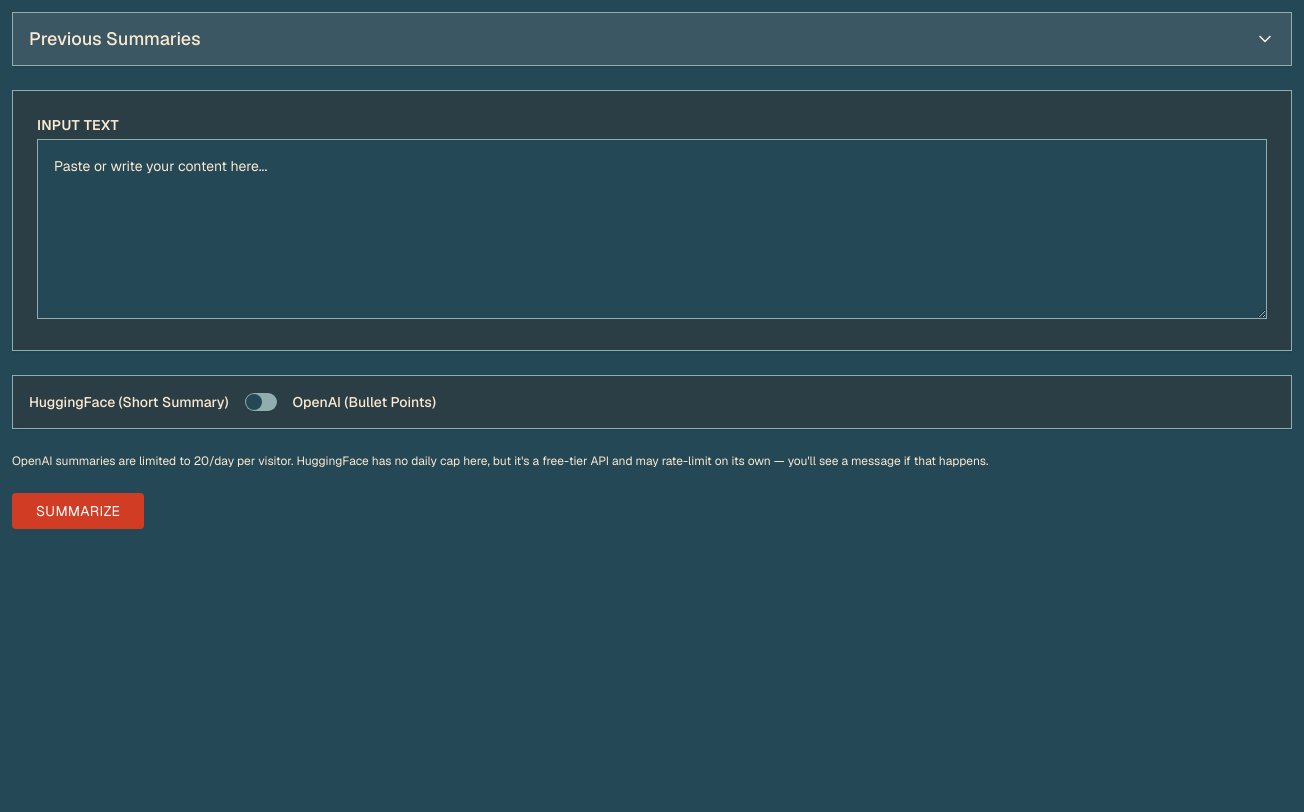
it: SummaryTabs › shows the summary on success
Step 1. Type "some article text" into the text box with placeholder "Paste or write your content here..." → x=652, y=229, box [37,139,1267,319]
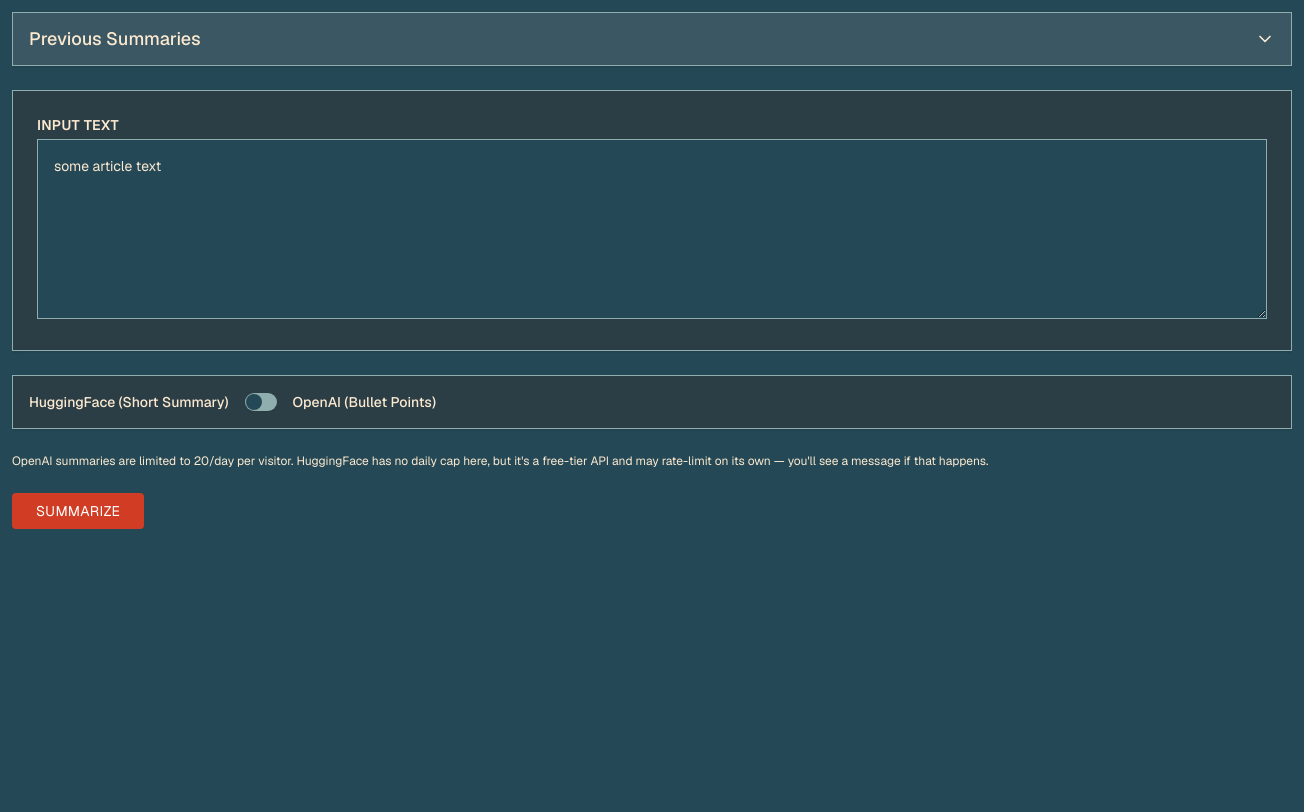
Step 2. Click the button "Summarize" → x=78, y=511, box [12,493,144,529]
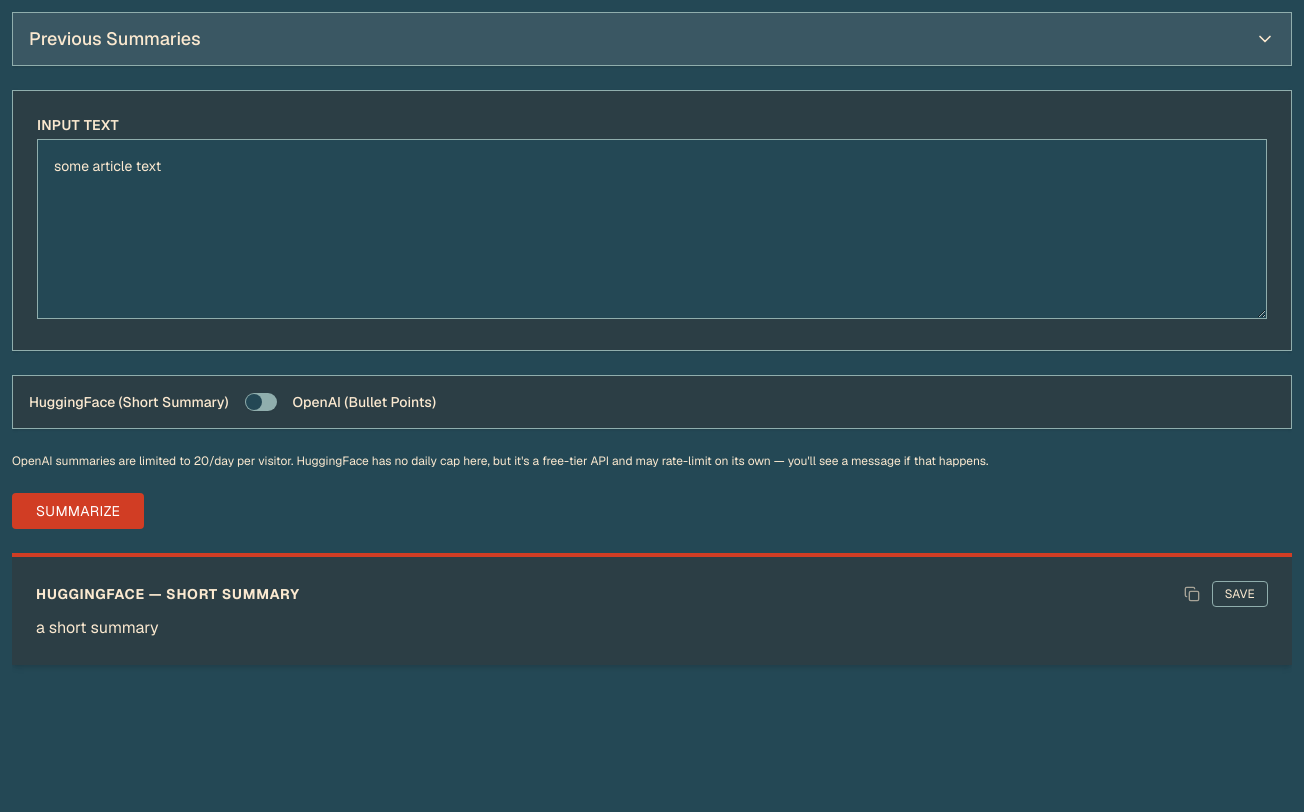
Result: the text "a short summary" is shown at [36,617,159,638]
